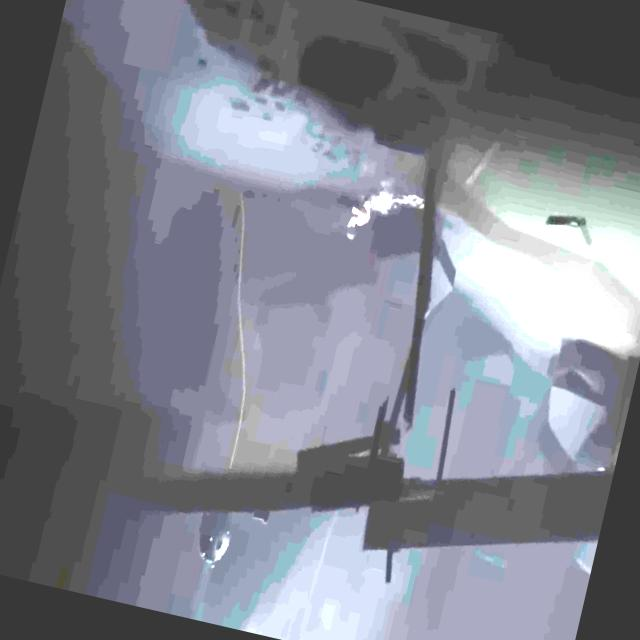boy: (345, 189, 376, 243)
